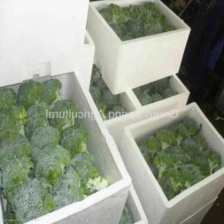foam_box: (0, 64, 135, 224), (117, 98, 223, 224), (79, 0, 195, 97)
